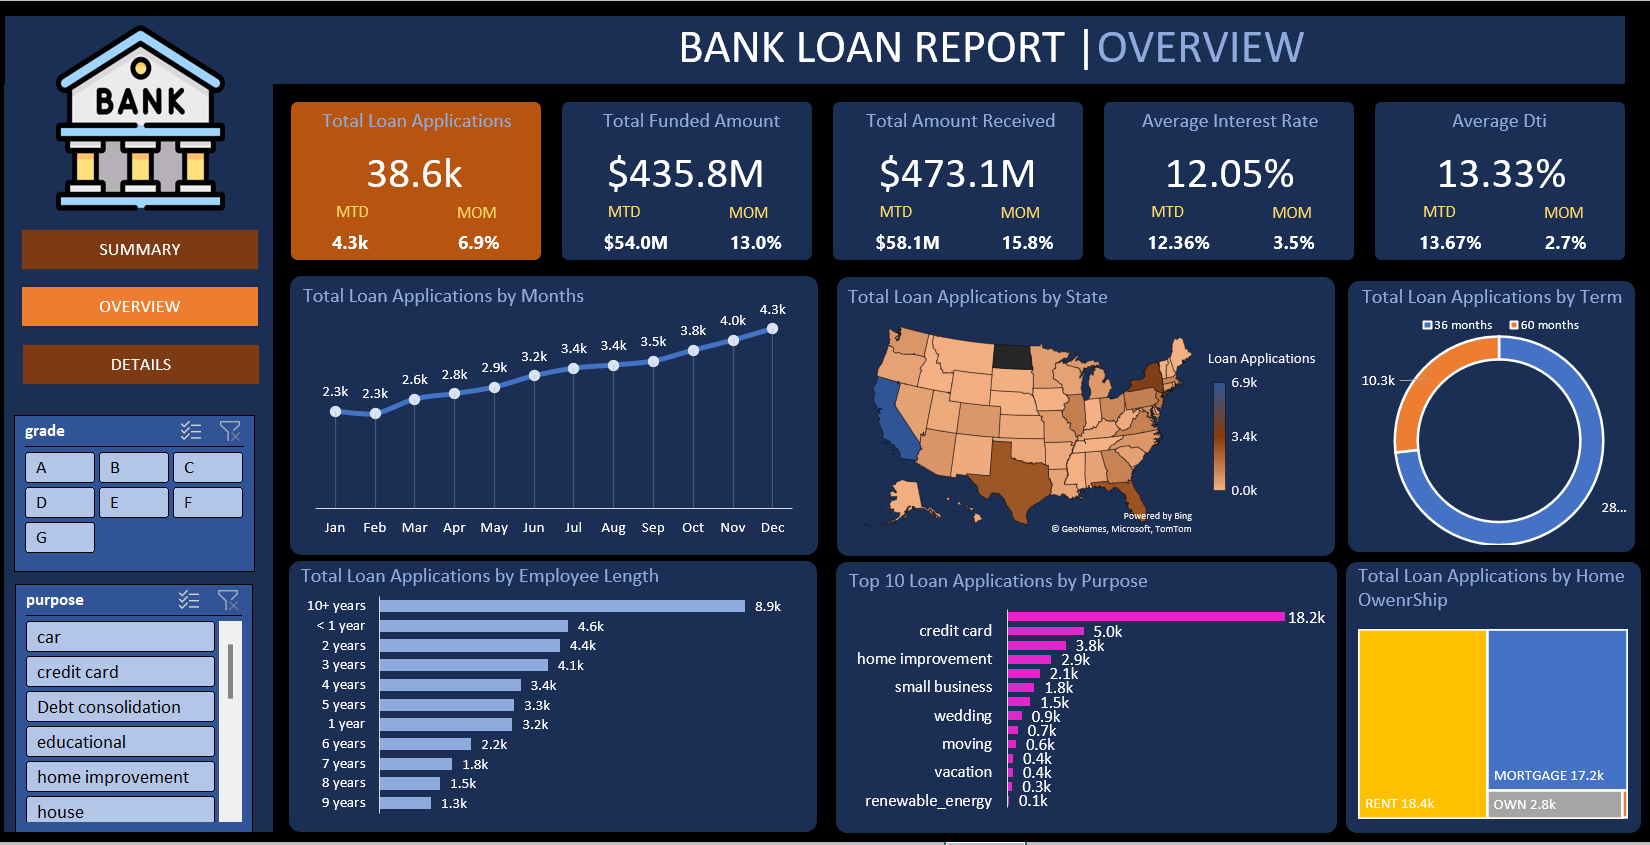

The page's visual inventory and layout, read from the dashboard file:
{"tool":"powerbi","page":{"name":"Overview","canvas":[1280,720],"ordinal":1},"visuals":[{"type":"shape","box":[0,0,1280,55],"z":0},{"type":"shape","box":[1057.1,65.7,195,117],"z":0,"group":"g5"},{"type":"shape","box":[209,67,195,117],"z":0,"group":"g1"},{"type":"shape","box":[421.4,67,195,117],"z":0,"group":"g2"},{"type":"shape","box":[633.7,67,195,117],"z":0,"group":"g3"},{"type":"shape","box":[846.1,67.1,195,117],"z":0,"group":"g4"},{"type":"shape","box":[0,54.9,191.5,664.8],"z":1000},{"type":"card","fields":{"Values":["Measure table.Average_DTI"]},"box":[1075.1,73.7,159,75],"z":1000,"group":"g5"},{"type":"card","fields":{"Values":["Measure table.Total_Loan_Application"]},"box":[236,75,147,69],"z":1000,"group":"g1"},{"type":"card","fields":{"Values":["Measure table.Total Funded Amount"]},"box":[439.4,75,159,75],"z":1000,"group":"g2"},{"type":"card","fields":{"Values":["Measure table.Total Received Amount"]},"box":[651.7,75,159,75],"z":1000,"group":"g3"},{"type":"card","fields":{"Values":["Measure table.Average_interest_rate"]},"box":[864.1,75.1,159,75],"z":1000,"group":"g4"},{"type":"textbox","box":[1059.1,73.7,195,32],"z":2000,"group":"g5"},{"type":"textbox","box":[211,75,195,32],"z":2000,"group":"g1"},{"type":"textbox","box":[423.4,75,195,32],"z":2000,"group":"g2"},{"type":"textbox","box":[635.7,75,195,32],"z":2000,"group":"g3"},{"type":"textbox","box":[848.1,75.1,195,32],"z":2000,"group":"g4"},{"type":"textbox","box":[212.2,207.8,194.4,32.2],"z":2000},{"type":"card","title":"MTD","fields":{"Values":["Measure table.MTD_Avg_dti"]},"box":[1071.1,124.7,66,58],"z":3000,"group":"g5"},{"type":"card","title":"MTD","fields":{"Values":["Measure table.MTD_Loan_Application"]},"box":[223,126,66,58],"z":3000,"group":"g1"},{"type":"card","title":"MTD","fields":{"Values":["Measure table.MTD_funded_amount"]},"box":[435.4,126,66,58],"z":3000,"group":"g2"},{"type":"card","title":"MTD","fields":{"Values":["Measure table.MTD_Received_amount"]},"box":[647.7,126,66,58],"z":3000,"group":"g3"},{"type":"card","title":"MTD","fields":{"Values":["Measure table.MTD_interest_rate"]},"box":[860.1,126.1,66,58],"z":3000,"group":"g4"},{"type":"textbox","box":[223.3,202.2,194.4,32.2],"z":3000},{"type":"card","title":"MOM","fields":{"Values":["Measure table.Mom Average DTI"]},"box":[1165.1,124.7,66,58],"z":4000,"group":"g5"},{"type":"card","title":"MOM","fields":{"Values":["Measure table.mom Loan Application"]},"box":[317,126,66,58],"z":4000,"group":"g1"},{"type":"card","title":"MOM","fields":{"Values":["Measure table.Mom funded Amount"]},"box":[529.4,126,66,58],"z":4000,"group":"g2"},{"type":"card","title":"MOM","fields":{"Values":["Measure table.Mom Received Amount"]},"box":[741.7,126,66,58],"z":4000,"group":"g3"},{"type":"card","title":"MOM","fields":{"Values":["Measure table.Mom interest Rate"]},"box":[954.1,126.1,66,58],"z":4000,"group":"g4"},{"type":"shape","box":[197.8,202.2,405,235],"z":4000},{"type":"textbox","box":[416,7,448,43],"z":5000},{"type":"group","id":"g1","title":"Group 1","box":[209,67,197,117],"z":6000},{"type":"group","id":"g2","title":"Group 1","box":[421.4,67,197,117],"z":7000},{"type":"group","id":"g3","title":"Group 1","box":[633.7,67,197,117],"z":8000},{"type":"group","id":"g4","title":"Group 1","box":[846.1,67.1,195.7,117.1],"z":9000},{"type":"group","id":"g5","title":"Group 1","box":[1057.1,65.7,197.1,115.7],"z":10000},{"type":"slicer","fields":{"Values":["financial_loan.address_state"]},"box":[9.9,450.7,171.8,43.7],"z":11000},{"type":"textbox","box":[9.9,431,85.9,32.4],"z":12000},{"type":"slicer","fields":{"Values":["financial_loan.grade"]},"box":[9.9,545.1,171.8,43.7],"z":13000},{"type":"textbox","box":[9.9,522.5,85.9,32.4],"z":14000},{"type":"slicer","fields":{"Values":["financial_loan.purpose"]},"box":[9.9,635.2,171.8,43.7],"z":15000},{"type":"textbox","box":[11.3,616.9,85.9,40.8],"z":16000},{"type":"slicer","fields":{"Values":["Select Measure.Select Measure"]},"box":[11.3,387.3,170.4,43.7],"z":17000},{"type":"textbox","box":[11.3,360.6,129.6,32.4],"z":18000},{"type":"areaChart","fields":{"Category":["Date Table.MonthName"]},"box":[196.7,203.3,401.1,227.8],"z":19000},{"type":"shape","box":[614.4,203.3,360,235.6],"z":20000},{"type":"shapeMap","fields":{"Category":["financial_loan.address_state"]},"box":[616.7,203.3,357.8,227.8],"z":21000},{"type":"shape","box":[986.7,203.3,267.8,234.4],"z":22000},{"type":"donutChart","fields":{"Category":["financial_loan.term"]},"box":[988.9,203.3,263.3,234.4],"z":23000},{"type":"shape","box":[197.8,451.1,405.6,258.9],"z":24000},{"type":"barChart","fields":{"Category":["financial_loan.emp_length"]},"box":[202.2,451.1,392.2,258.9],"z":25000},{"type":"shape","box":[614.4,451.1,360,258.9],"z":26000},{"type":"barChart","fields":{"Category":["financial_loan.purpose"]},"box":[616.7,452.2,360,257.8],"z":27000},{"type":"shape","box":[988.9,451.1,267.8,258.9],"z":28000},{"type":"treemap","fields":{"Group":["financial_loan.home_ownership"]},"box":[988.9,452.2,265.6,257.8],"z":29000},{"type":"pageNavigator","box":[11.2,182.5,170,162.5],"z":30000},{"type":"image","box":[26.2,26.2,132.5,123.8],"z":31000}]}

Visuals, with their boxes on the page's 1280x720 design canvas (x1, y1, x2, y2). These are canvas units, not pixel positions in the 1650x845 screenshot, which may show the page scaled, cropped or inside an application window:
shape: x1=0, y1=0, x2=1280, y2=55
shape: x1=1057, y1=66, x2=1252, y2=183
shape: x1=209, y1=67, x2=404, y2=184
shape: x1=421, y1=67, x2=616, y2=184
shape: x1=634, y1=67, x2=829, y2=184
shape: x1=846, y1=67, x2=1041, y2=184
shape: x1=0, y1=55, x2=192, y2=720
card - Measure table.Average_DTI: x1=1075, y1=74, x2=1234, y2=149
card - Measure table.Total_Loan_Application: x1=236, y1=75, x2=383, y2=144
card - Measure table.Total Funded Amount: x1=439, y1=75, x2=598, y2=150
card - Measure table.Total Received Amount: x1=652, y1=75, x2=811, y2=150
card - Measure table.Average_interest_rate: x1=864, y1=75, x2=1023, y2=150
textbox: x1=1059, y1=74, x2=1254, y2=106
textbox: x1=211, y1=75, x2=406, y2=107
textbox: x1=423, y1=75, x2=618, y2=107
textbox: x1=636, y1=75, x2=831, y2=107
textbox: x1=848, y1=75, x2=1043, y2=107
textbox: x1=212, y1=208, x2=407, y2=240
"MTD" card: x1=1071, y1=125, x2=1137, y2=183
"MTD" card: x1=223, y1=126, x2=289, y2=184
"MTD" card: x1=435, y1=126, x2=501, y2=184
"MTD" card: x1=648, y1=126, x2=714, y2=184
"MTD" card: x1=860, y1=126, x2=926, y2=184
textbox: x1=223, y1=202, x2=418, y2=234
"MOM" card: x1=1165, y1=125, x2=1231, y2=183
"MOM" card: x1=317, y1=126, x2=383, y2=184
"MOM" card: x1=529, y1=126, x2=595, y2=184
"MOM" card: x1=742, y1=126, x2=808, y2=184
"MOM" card: x1=954, y1=126, x2=1020, y2=184
shape: x1=198, y1=202, x2=603, y2=437
textbox: x1=416, y1=7, x2=864, y2=50
"Group 1" group: x1=209, y1=67, x2=406, y2=184
"Group 1" group: x1=421, y1=67, x2=618, y2=184
"Group 1" group: x1=634, y1=67, x2=831, y2=184
"Group 1" group: x1=846, y1=67, x2=1042, y2=184
"Group 1" group: x1=1057, y1=66, x2=1254, y2=181
slicer - financial_loan.address_state: x1=10, y1=451, x2=182, y2=494
textbox: x1=10, y1=431, x2=96, y2=463
slicer - financial_loan.grade: x1=10, y1=545, x2=182, y2=589
textbox: x1=10, y1=522, x2=96, y2=555
slicer - financial_loan.purpose: x1=10, y1=635, x2=182, y2=679
textbox: x1=11, y1=617, x2=97, y2=658
slicer - Select Measure.Select Measure: x1=11, y1=387, x2=182, y2=431
textbox: x1=11, y1=361, x2=141, y2=393
areaChart - Date Table.MonthName: x1=197, y1=203, x2=598, y2=431
shape: x1=614, y1=203, x2=974, y2=439
shapeMap - financial_loan.address_state: x1=617, y1=203, x2=974, y2=431
shape: x1=987, y1=203, x2=1254, y2=438
donutChart - financial_loan.term: x1=989, y1=203, x2=1252, y2=438
shape: x1=198, y1=451, x2=603, y2=710
barChart - financial_loan.emp_length: x1=202, y1=451, x2=594, y2=710
shape: x1=614, y1=451, x2=974, y2=710
barChart - financial_loan.purpose: x1=617, y1=452, x2=977, y2=710
shape: x1=989, y1=451, x2=1257, y2=710
treemap - financial_loan.home_ownership: x1=989, y1=452, x2=1254, y2=710
pageNavigator: x1=11, y1=182, x2=181, y2=345
image: x1=26, y1=26, x2=159, y2=150
